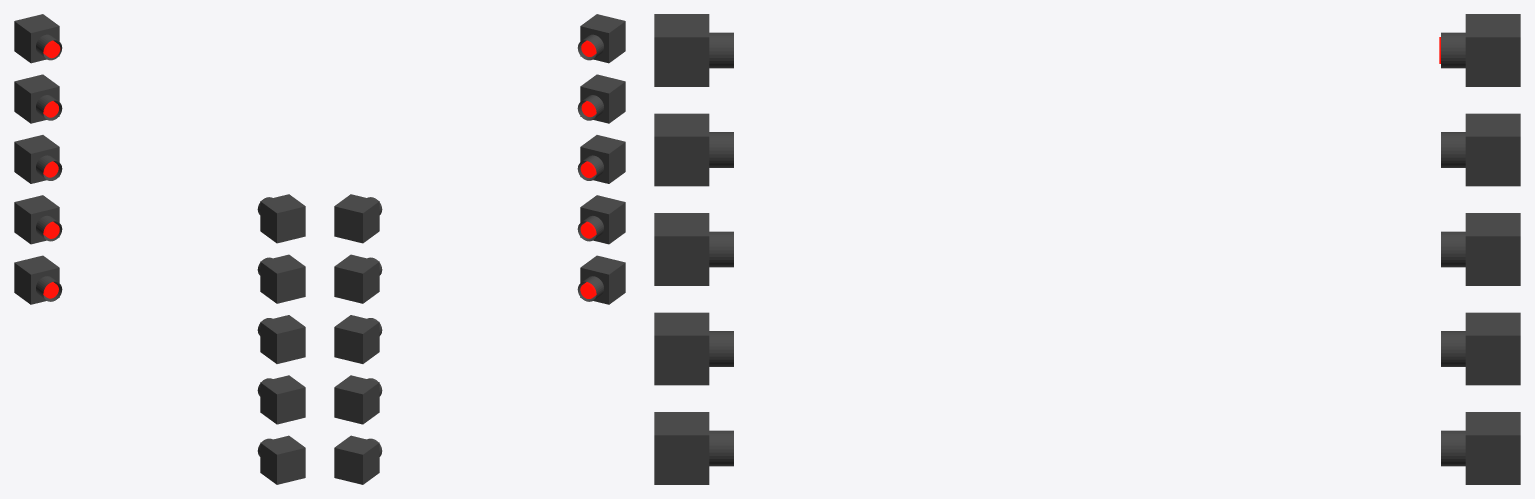
The model's file is Laser Wall.fbx.
The picture shows the model from 3 angles, left to right: view 1: azimuth 30°, elevation 25°; view 2: azimuth 150°, elevation 25°; view 3: azimuth 270°, elevation 25°; orthographic projection. The views are drawn at different scales.
Visible parts, largest first — view 1: Cube; view 2: Cube; view 3: Cube.
Boxes of the visible parts, x1,y1,x2,y2 form: Cube: [14, 14, 305, 484]; Cube: [334, 14, 625, 484]; Cube: [654, 14, 1520, 484].
Size of the model in its own units: 42.04 by 378 by 663.
